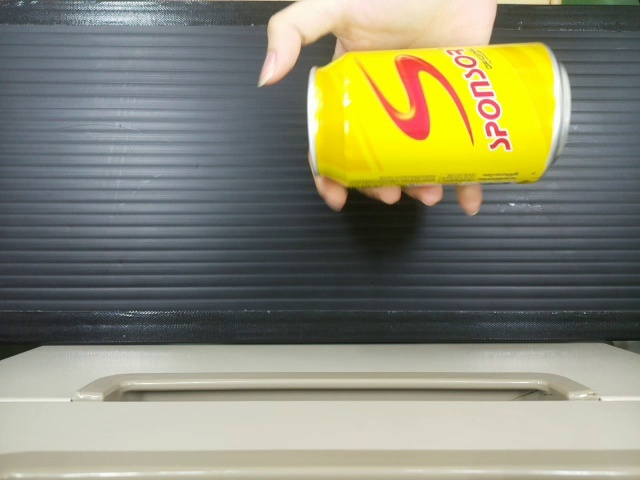can: (307, 48, 567, 179)
